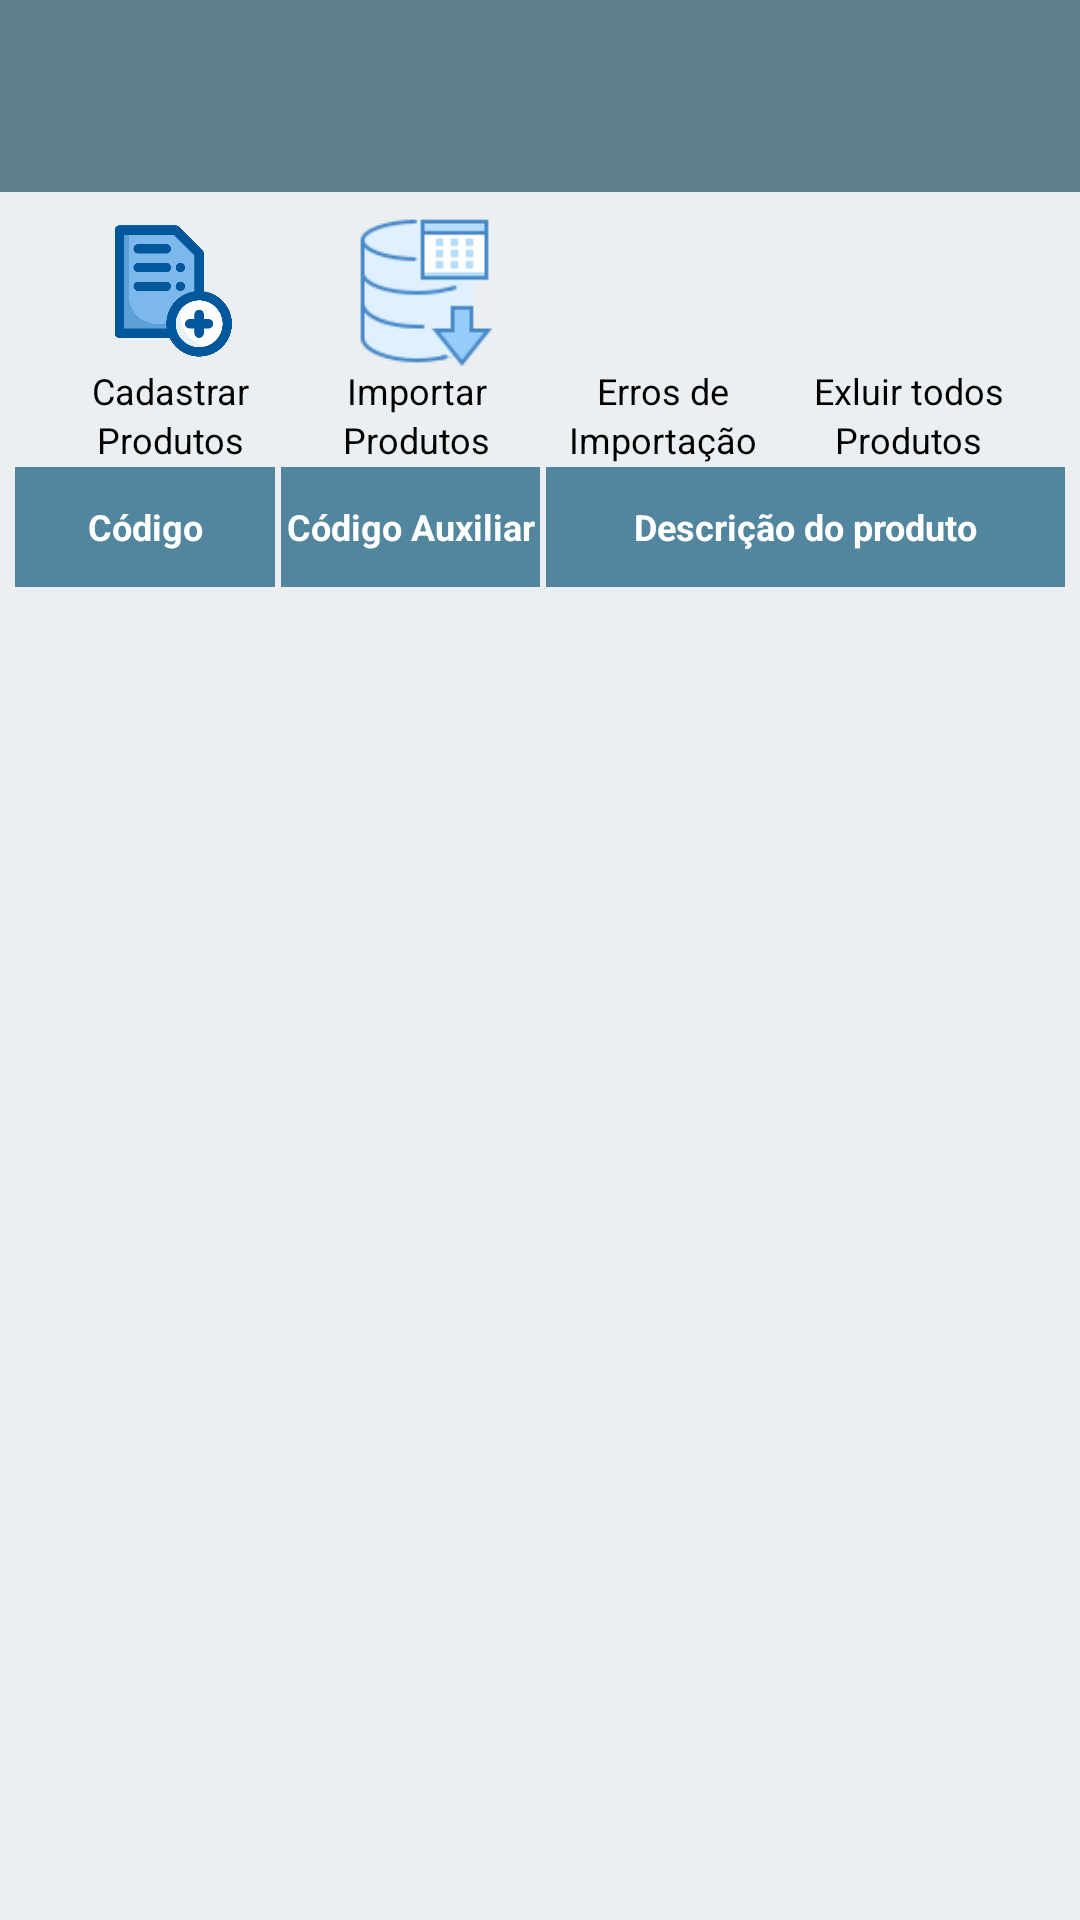

Screen size 1080px x 1920px. Icon name, then its box in pixels as (x1, y1, x2, y2):
banco dados: (360, 219, 492, 366)
